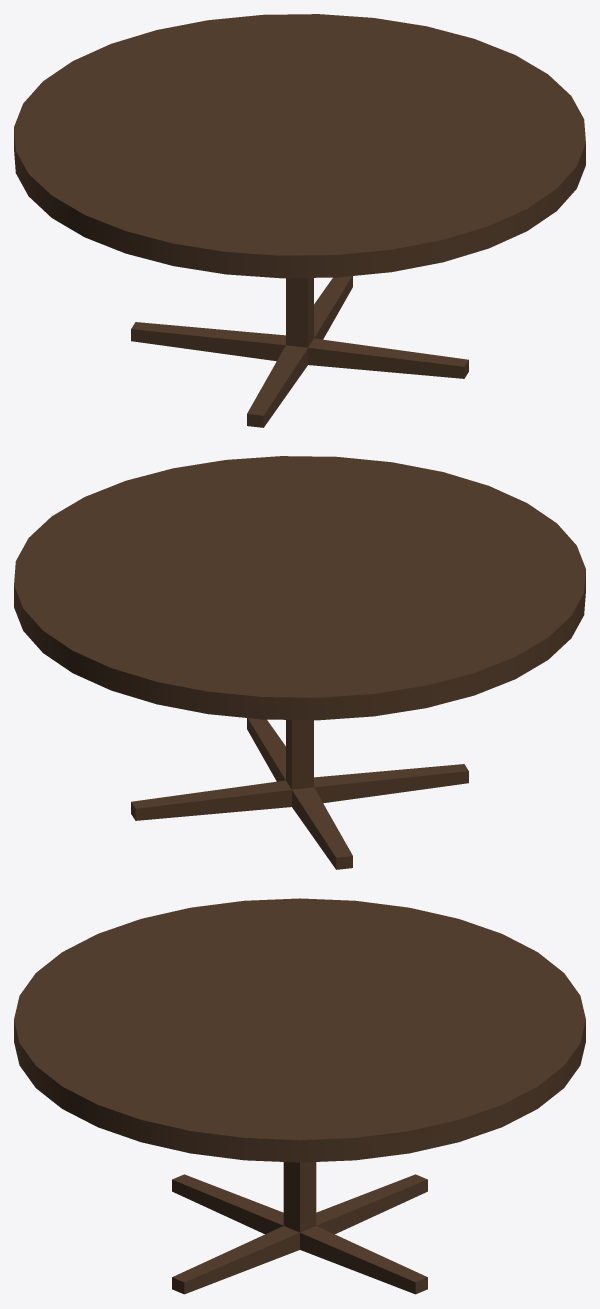
The model's file is table-large.glb.
The picture shows the model from 3 angles, top to bottom: view 1: azimuth 30°, elevation 25°; view 2: azimuth 150°, elevation 25°; view 3: azimuth 270°, elevation 25°; orthographic projection.
Visible parts, largest first — view 1: Table; view 2: Table; view 3: Table.
Boxes of the visible parts, <box> form: Table: <box>14,14,585,427</box>; Table: <box>14,456,585,869</box>; Table: <box>14,898,585,1294</box>.
Size of the model in its own units: 5.33 by 2.3 by 5.33.
